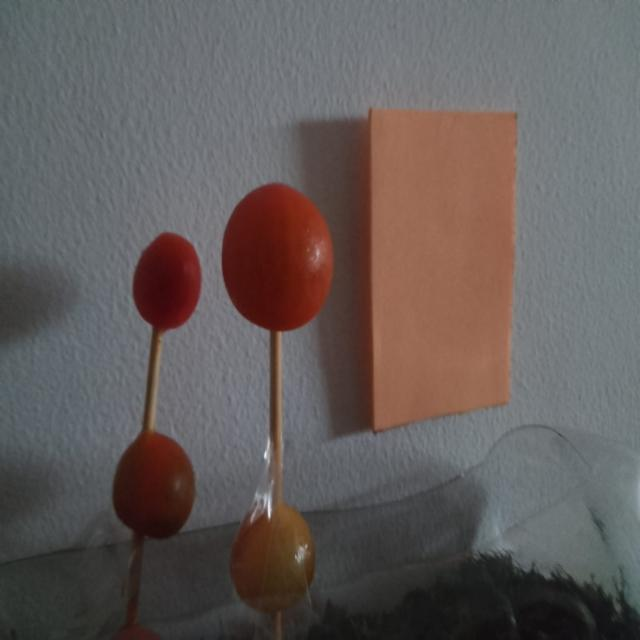card: (369, 109, 517, 431)
fruit_maturation: (230, 502, 315, 613)
fully_grown: (222, 184, 333, 331), (112, 431, 195, 538), (132, 233, 201, 330)
